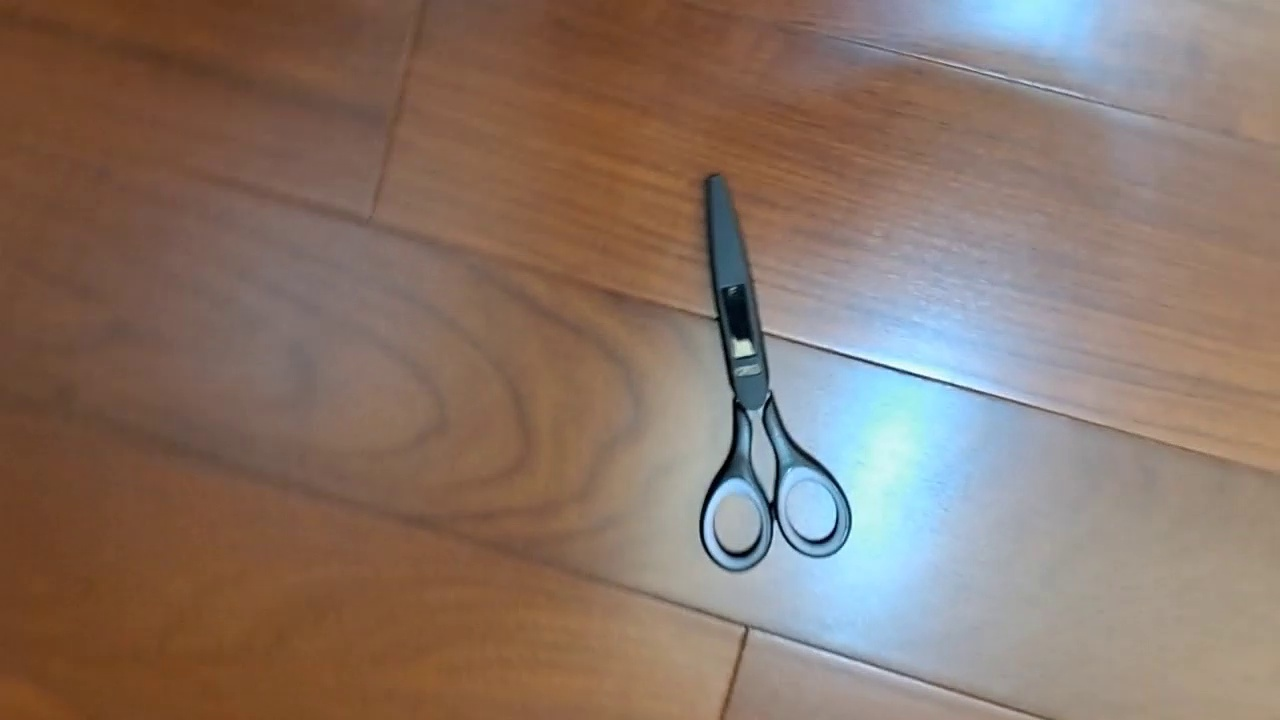scissors: (699, 170, 852, 575)
